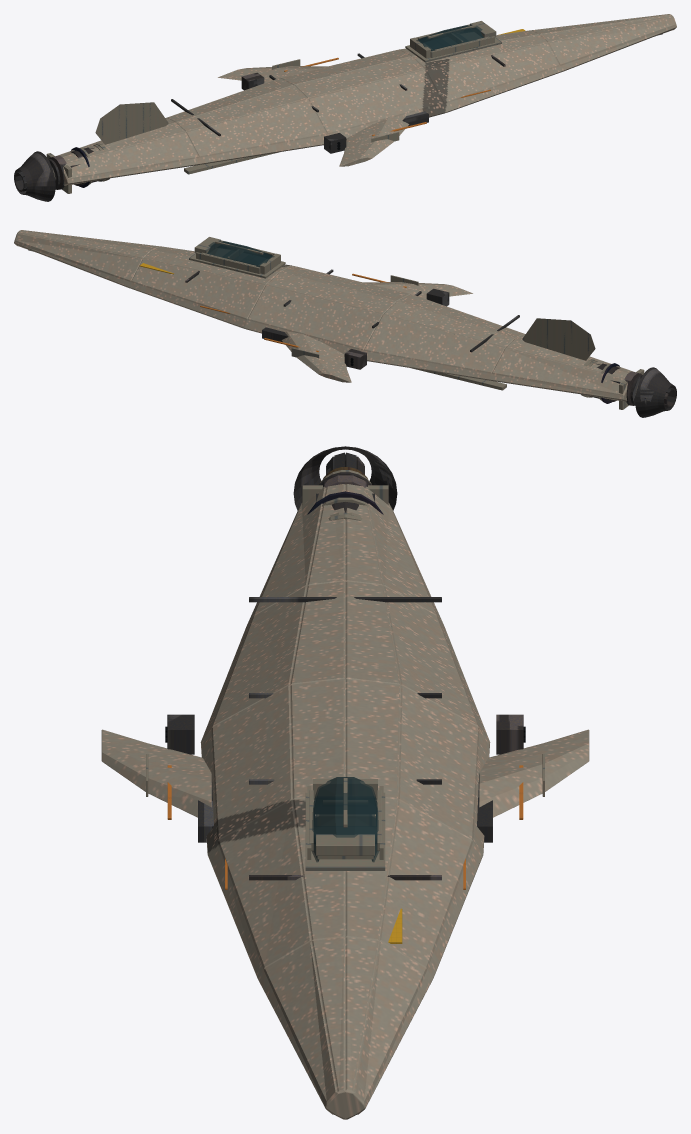
File: helios_lark_production_v1_lod2.glb
The picture shows the model from 3 angles, top to bottom: view 1: azimuth 30°, elevation 25°; view 2: azimuth 150°, elevation 25°; view 3: azimuth 270°, elevation 25°; orthographic projection. The views are drawn at different scales.
Visible parts, largest first — view 1: LOD2_Hull, LOD2_Armor, LOD2_Mechanical, LOD2_Canopy; view 2: LOD2_Hull, LOD2_Armor, LOD2_Mechanical, LOD2_Canopy; view 3: LOD2_Hull, LOD2_Mechanical, LOD2_Armor, LOD2_Canopy.
Boxes of the visible parts, left/top/right/bottom form: LOD2_Hull: left=57, top=14, right=676, bottom=185; LOD2_Armor: left=46, top=21, right=501, bottom=193; LOD2_Mechanical: left=14, top=34, right=662, bottom=201; LOD2_Canopy: left=416, top=25, right=483, bottom=51; LOD2_Hull: left=14, top=230, right=633, bottom=401; LOD2_Armor: left=189, top=237, right=644, bottom=409; LOD2_Mechanical: left=28, top=250, right=676, bottom=417; LOD2_Canopy: left=207, top=241, right=274, bottom=267; LOD2_Hull: left=101, top=484, right=589, bottom=1119; LOD2_Mechanical: left=167, top=446, right=523, bottom=880; LOD2_Armor: left=146, top=470, right=544, bottom=870; LOD2_Canopy: left=312, top=777, right=378, bottom=862.
Size of what is drawn, in the model's own units: 13.3 by 1.65 by 4.3.
Materials: 9 (9 with a texture image).
